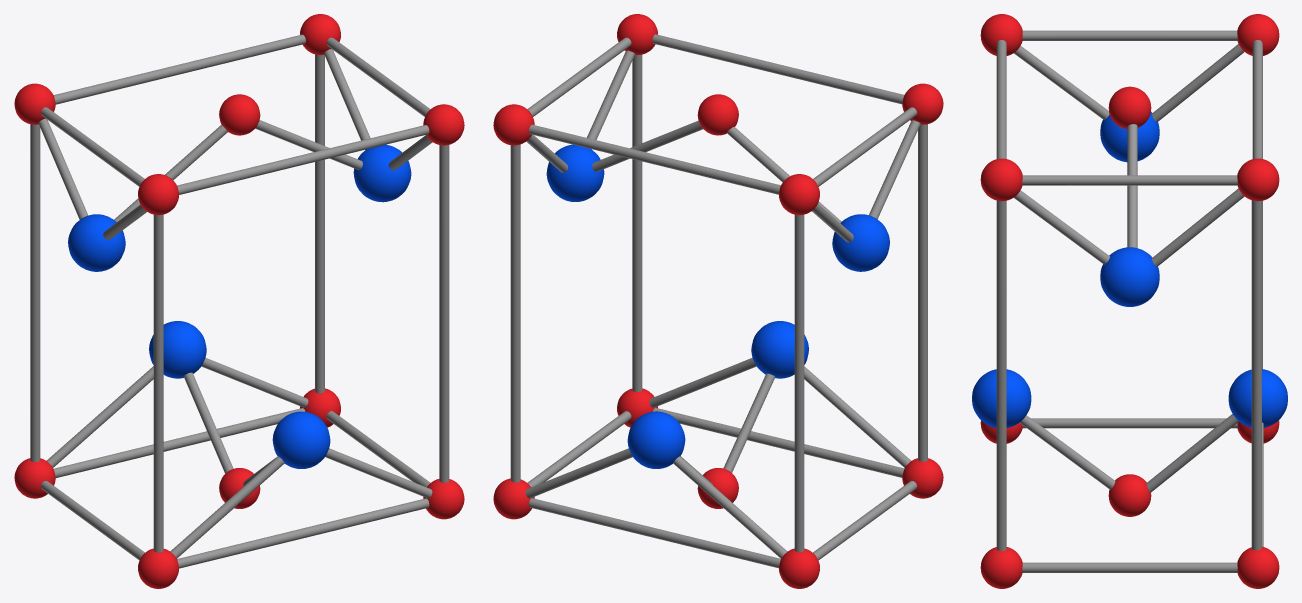
The model's file is SnO.fbx.
3 renders of one model, left to right at view 1: azimuth 30°, elevation 25°; view 2: azimuth 150°, elevation 25°; view 3: azimuth 270°, elevation 25°, orthographic. The views are drawn at different scales.
Parts seen in each view (by area): view 1: Цилиндр_Node (×21), Сферы_Node (×14); view 2: Цилиндр_Node (×21), Сферы_Node (×14); view 3: Цилиндр_Node (×15), Сферы_Node (×14).
Part boxes in pixels (<box>): Цилиндр_Node (×21): <box>30,34,449,568</box>; Сферы_Node (×14): <box>14,14,464,588</box>; Цилиндр_Node (×21): <box>510,34,927,568</box>; Сферы_Node (×14): <box>493,14,943,588</box>; Цилиндр_Node (×15): <box>996,30,1262,572</box>; Сферы_Node (×14): <box>972,14,1287,588</box>.
Size of the model in its own units: 4.7 by 5.5 by 3.69.
14 materials, 2 textured.
